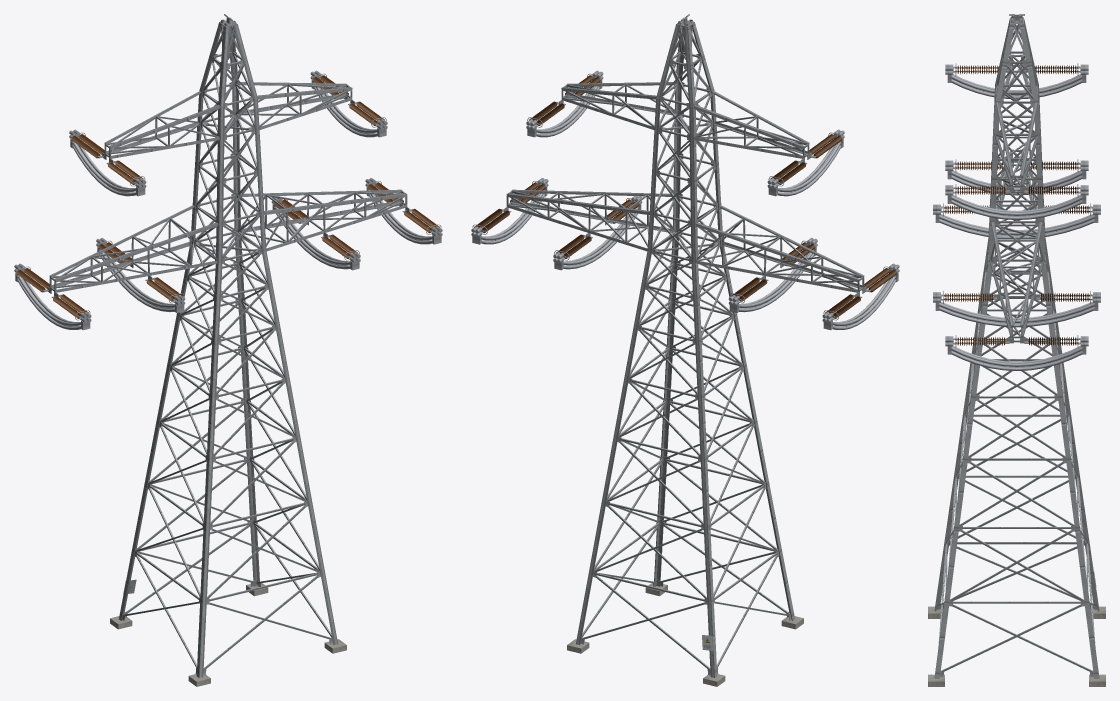
The model's file is lattice_tension.obj.
3 views of the same model, side by side, from view 1: azimuth 30°, elevation 25°; view 2: azimuth 150°, elevation 25°; view 3: azimuth 270°, elevation 25° (orthographic). The views are drawn at different scales.
Parts seen in each view (by area): view 1: body, arm, jumper_5, jumper_1, jumper_3, jumper_2, footing, insulator_5, insulator_1, jumper_6, jumper_4; view 2: body, arm, jumper_5, jumper_1, jumper_3, jumper_2, footing, insulator_5, insulator_1, jumper_4, jumper_6; view 3: body, arm, jumper_3, jumper_6, jumper_4, jumper_2, jumper_5, jumper_1, footing, insulator_3, insulator_6, insulator_4 (+6 smaller).
Part boxes in pixels (x1,y1,x2,y2): body: [119, 19, 337, 677]; arm: [49, 82, 407, 292]; jumper_5: [70, 139, 145, 196]; jumper_1: [15, 273, 90, 330]; jumper_3: [272, 204, 359, 270]; jumper_2: [97, 247, 184, 312]; footing: [110, 583, 346, 686]; insulator_5: [71, 134, 143, 184]; insulator_1: [17, 268, 88, 318]; jumper_6: [311, 80, 386, 137]; jumper_4: [366, 187, 441, 244]; body: [576, 19, 794, 677]; arm: [506, 82, 864, 292]; jumper_5: [768, 139, 843, 196]; jumper_1: [823, 273, 898, 330]; jumper_3: [554, 204, 641, 270]; jumper_2: [729, 247, 816, 312]; footing: [567, 583, 803, 686]; insulator_5: [770, 134, 842, 184]; insulator_1: [825, 268, 896, 318]; jumper_4: [472, 187, 547, 244]; jumper_6: [527, 80, 602, 137]; body: [934, 15, 1099, 678]; arm: [989, 54, 1044, 338]; jumper_3: [935, 301, 1098, 326]; jumper_6: [947, 195, 1086, 219]; jumper_4: [947, 346, 1086, 370]; jumper_2: [935, 214, 1098, 237]; jumper_5: [947, 74, 1086, 99]; jumper_1: [947, 170, 1086, 195]; footing: [928, 606, 1105, 686]; insulator_3: [944, 293, 1089, 301]; insulator_6: [955, 186, 1078, 194]; insulator_4: [955, 337, 1078, 345].
Size of the model in its own units: 7.11 by 11.5 by 2.92.
